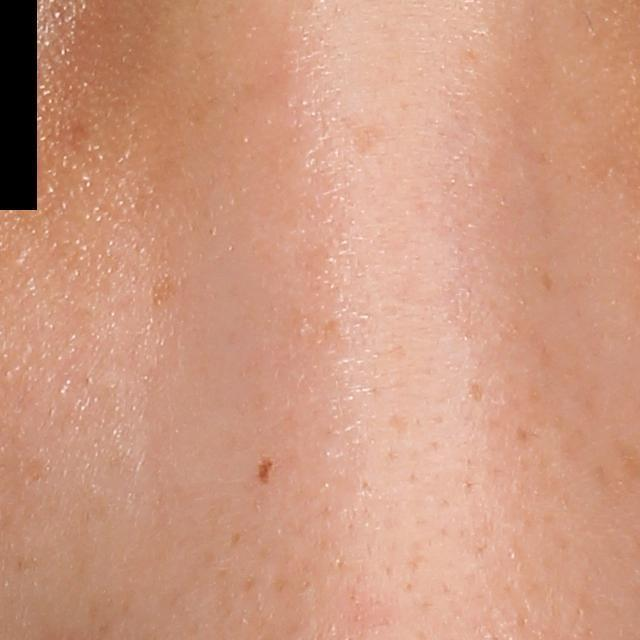melasma: (339, 112, 398, 157), (150, 275, 184, 309), (467, 379, 487, 407), (541, 270, 556, 291)
nevus: (255, 458, 272, 483)
